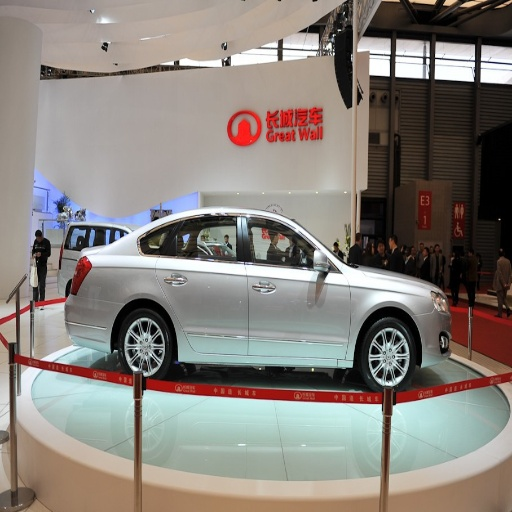back_right_door: (157, 215, 247, 354)
front_right_door: (246, 215, 350, 354)
trunk: (92, 452, 129, 504), (300, 478, 377, 501)
